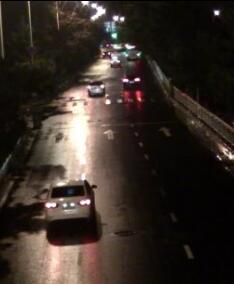car: (43, 180, 99, 224), (119, 69, 142, 88), (87, 78, 106, 97), (124, 45, 140, 61), (99, 46, 114, 58), (108, 55, 123, 66)
